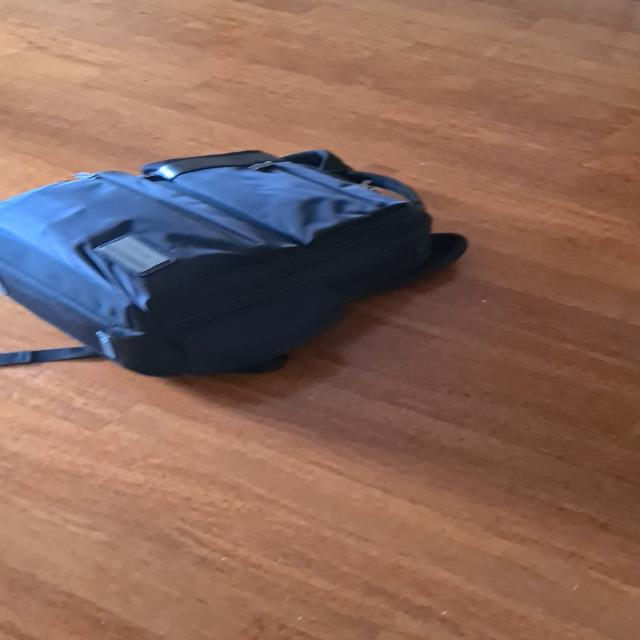backpack: (0, 142, 488, 390)
